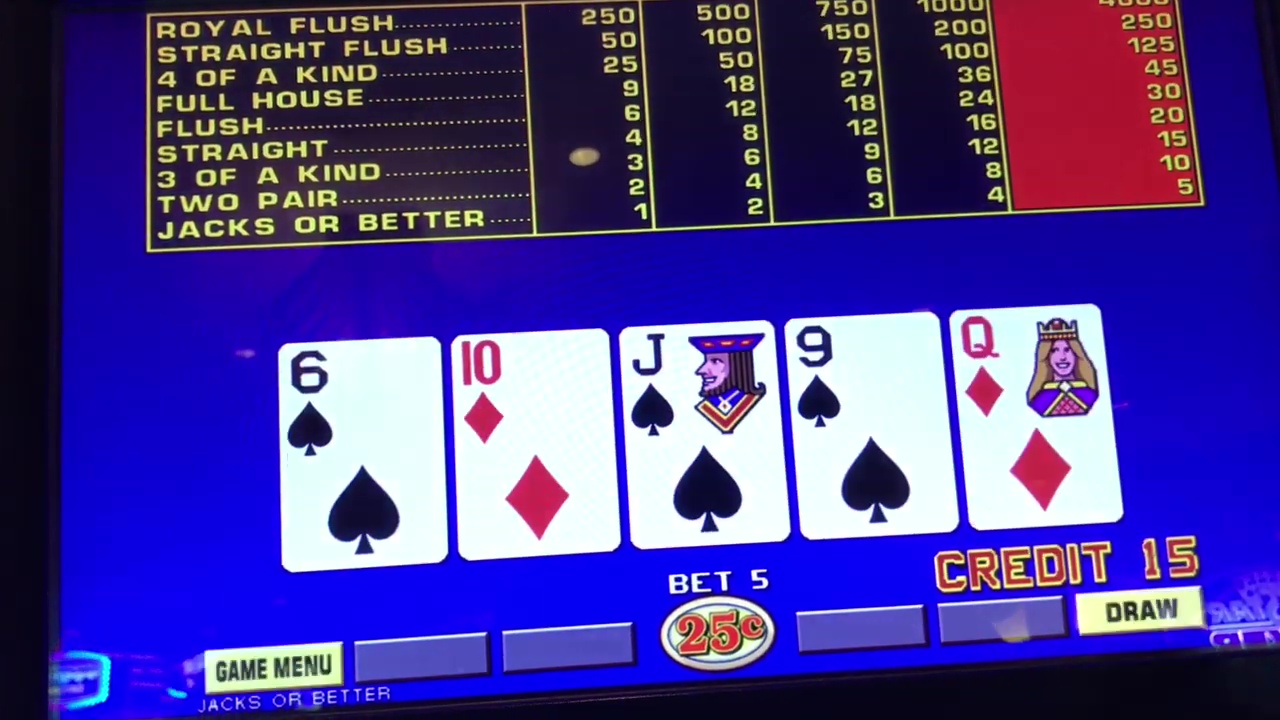DQ: (961, 311, 1103, 521)
DT: (462, 333, 604, 556)
S6: (286, 338, 431, 568)
S9: (795, 318, 944, 534)
SJ: (629, 325, 771, 543)
